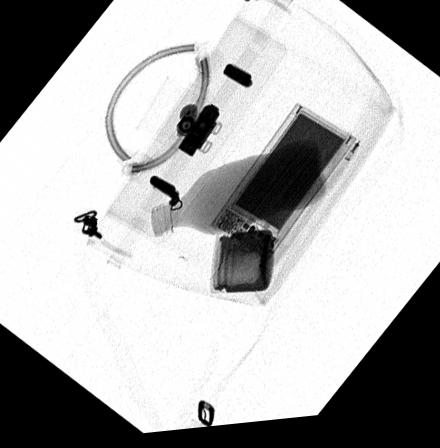Powerbank: (206, 107, 357, 270)
